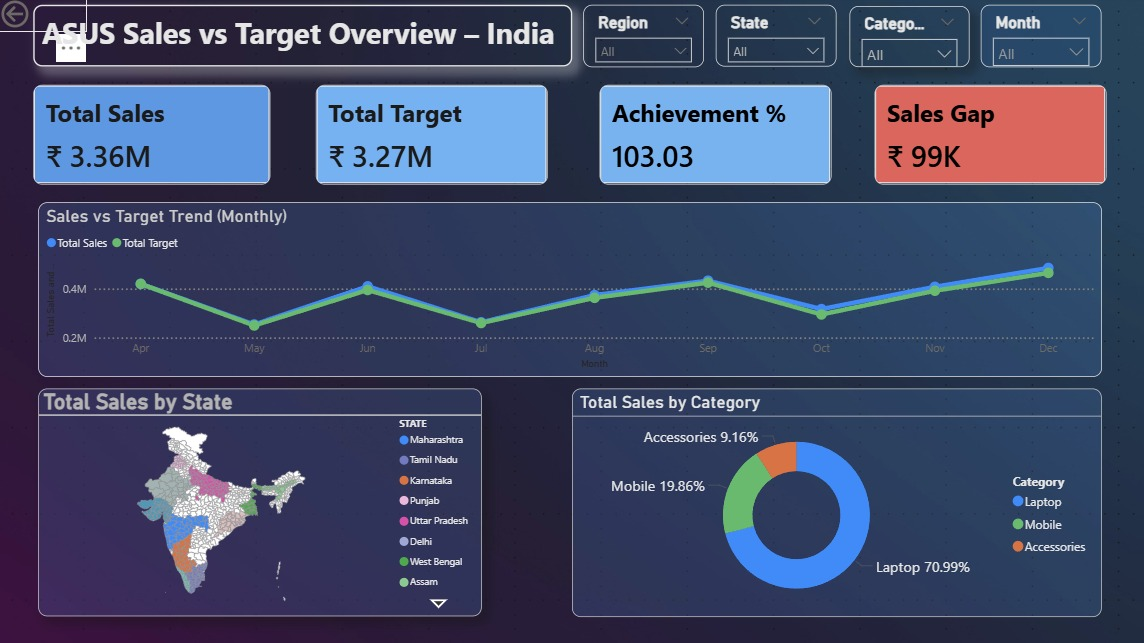

The page's visual inventory and layout, read from the dashboard file:
{"tool":"powerbi","page":{"name":"Page 1","canvas":[1280,720],"ordinal":0},"visuals":[{"type":"lineChart","title":"Sales vs Target Trend (Monthly)","fields":{"Category":["asus_sales_data.Month"],"Y":["asus_sales_data.Total Sales","asus_sales_data.Total Target"]},"box":[40.3,235.1,1199.3,194.8],"z":0},{"type":"shapeMap","title":"Total Sales by State","fields":{"Category":["asus_sales_data.State"],"Series":["asus_sales_data.State"],"Value":["asus_sales_data.Total Sales"]},"box":[45.9,449.4,493.9,253.2],"z":1000},{"type":"actionButton","box":[0,0,100,40],"z":2000},{"type":"donutChart","fields":{"Category":["asus_sales_data.Category"],"Y":["asus_sales_data.Total Sales"]},"box":[569,448,670.6,254.6],"z":3000},{"type":"textbox","box":[39.8,9.6,599.7,68.6],"z":4000},{"type":"slicer","fields":{"Values":["asus_sales_data.State"]},"box":[809.7,12.5,135,68.2],"z":5000},{"type":"slicer","fields":{"Values":["asus_sales_data.Category"]},"box":[955.8,12.5,133.6,68.2],"z":6000},{"type":"slicer","title":"gjjk","fields":{"Values":["asus_sales_data.Month"]},"box":[1104.7,11.1,135,69.6],"z":7000},{"type":"slicer","fields":{"Values":["asus_sales_data.Region"]},"box":[665,11.1,135,69.6],"z":8000},{"type":"cardVisual","title":"Total Sales","fields":{"Data":["asus_sales_data.Total Sales"]},"box":[40.3,98.8,264.3,111.3],"z":9000},{"type":"cardVisual","fields":{"Data":["asus_sales_data.Total Target"]},"box":[368.7,98.8,258.8,111.3],"z":10000},{"type":"cardVisual","fields":{"Data":["asus_sales_data.Sales Gap"]},"box":[980.9,98.8,258.8,111.3],"z":11000},{"type":"cardVisual","fields":{"Data":["asus_sales_data.Achievement %"]},"box":[670.6,98.8,258.8,111.3],"z":12000}]}

Visuals, with their boxes in screenshot pixels (x1, y1, x2, y2), scaled from the page's 1280x720 canvas onto the 1144x643 screenshot:
"Sales vs Target Trend (Monthly)" lineChart: box(36, 210, 1108, 384)
"Total Sales by State" shapeMap: box(41, 401, 482, 627)
actionButton: box(0, 0, 89, 36)
donutChart - asus_sales_data.Category x asus_sales_data.Total Sales: box(509, 400, 1108, 627)
textbox: box(36, 9, 572, 70)
slicer - asus_sales_data.State: box(724, 11, 844, 72)
slicer - asus_sales_data.Category: box(854, 11, 974, 72)
"gjjk" slicer: box(987, 10, 1108, 72)
slicer - asus_sales_data.Region: box(594, 10, 715, 72)
"Total Sales" cardVisual: box(36, 88, 272, 188)
cardVisual - asus_sales_data.Total Target: box(330, 88, 561, 188)
cardVisual - asus_sales_data.Sales Gap: box(877, 88, 1108, 188)
cardVisual - asus_sales_data.Achievement %: box(599, 88, 831, 188)
